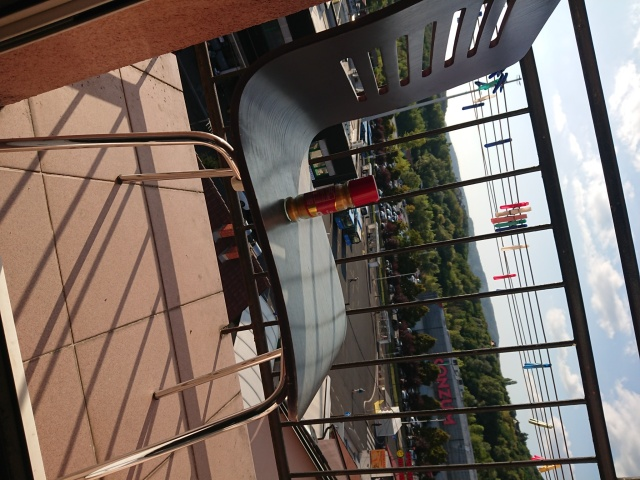Kotanyi Curry Spices Mix 70g: (282, 173, 383, 225)
